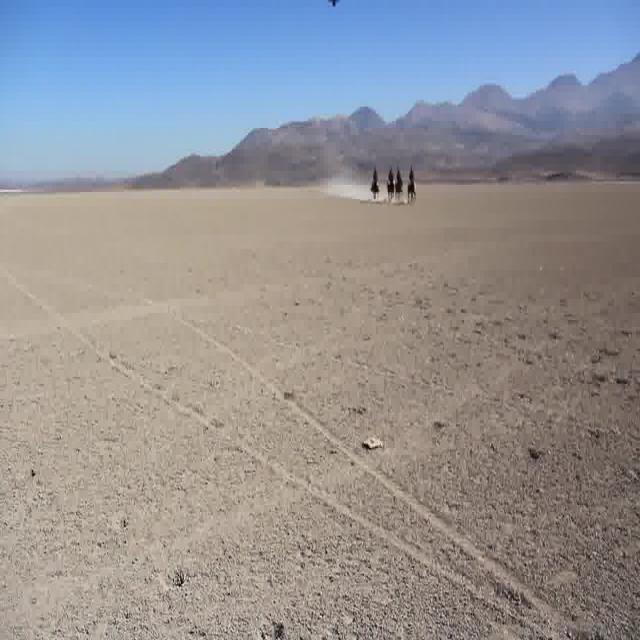drones: (321, 0, 345, 12)
